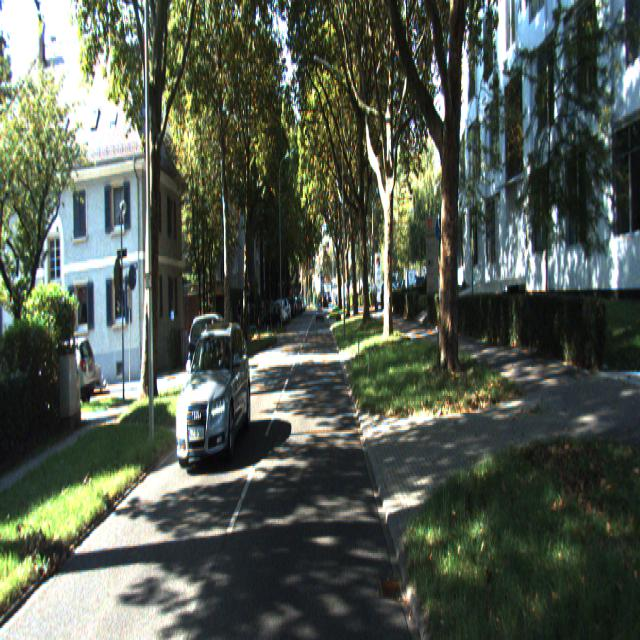Car: (174, 325, 252, 469), (189, 309, 249, 374)
